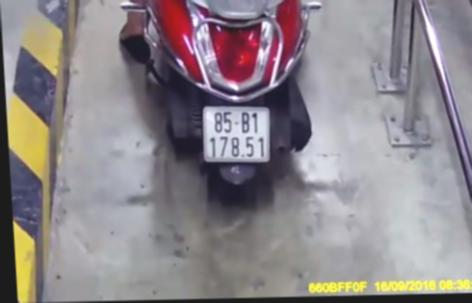License_Plate: (190, 99, 279, 170)
